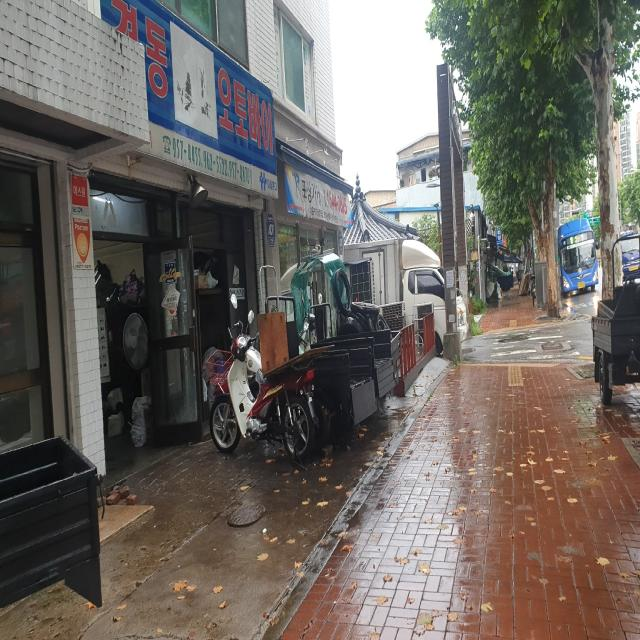car: (557, 218, 599, 296)
motorbike: (206, 330, 320, 466), (591, 234, 640, 406)
